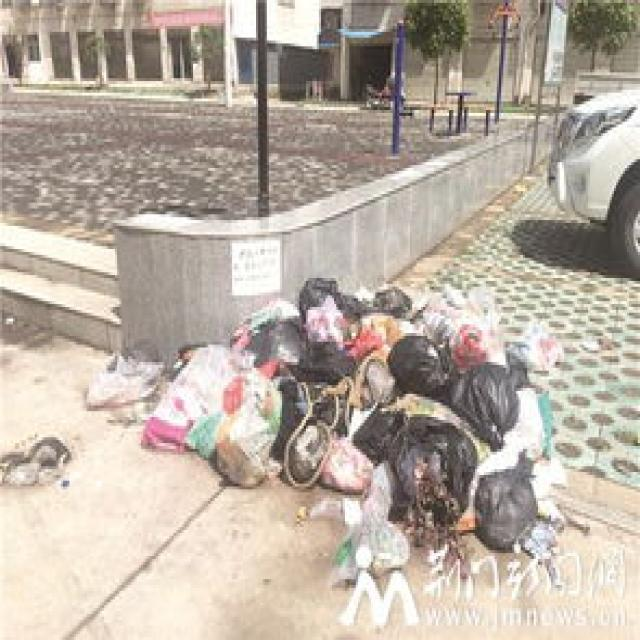garbage: (80, 275, 558, 585)
